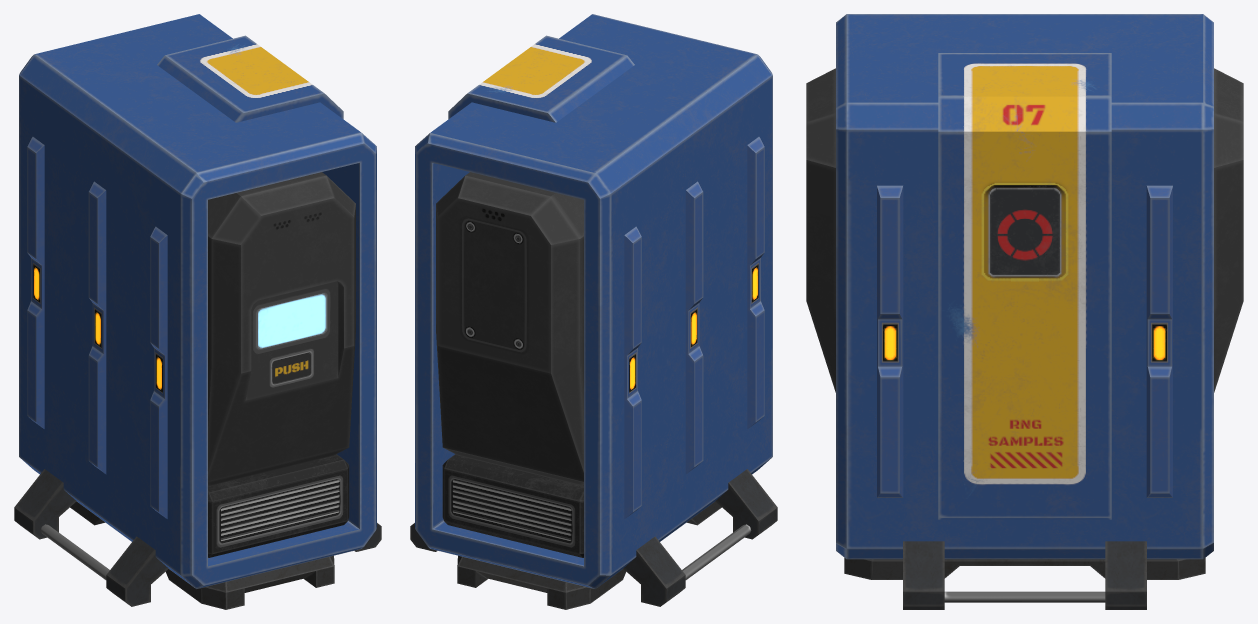
Rendered from CyFyCan.fbx.
3 renders of one model, left to right at view 1: azimuth 30°, elevation 25°; view 2: azimuth 150°, elevation 25°; view 3: azimuth 270°, elevation 25°, orthographic. The views are drawn at different scales.
Parts seen in each view (by area): view 1: Object002_Material #9_0; view 2: Object002_Material #9_0; view 3: Object002_Material #9_0.
Part boxes in pixels (x1,y1,x2,y2): Object002_Material #9_0: (14,14,381,609); Object002_Material #9_0: (410,14,777,609); Object002_Material #9_0: (806,14,1243,609).
Size of the model in its own units: 121 by 204 by 163.
1 material, 1 textured.
